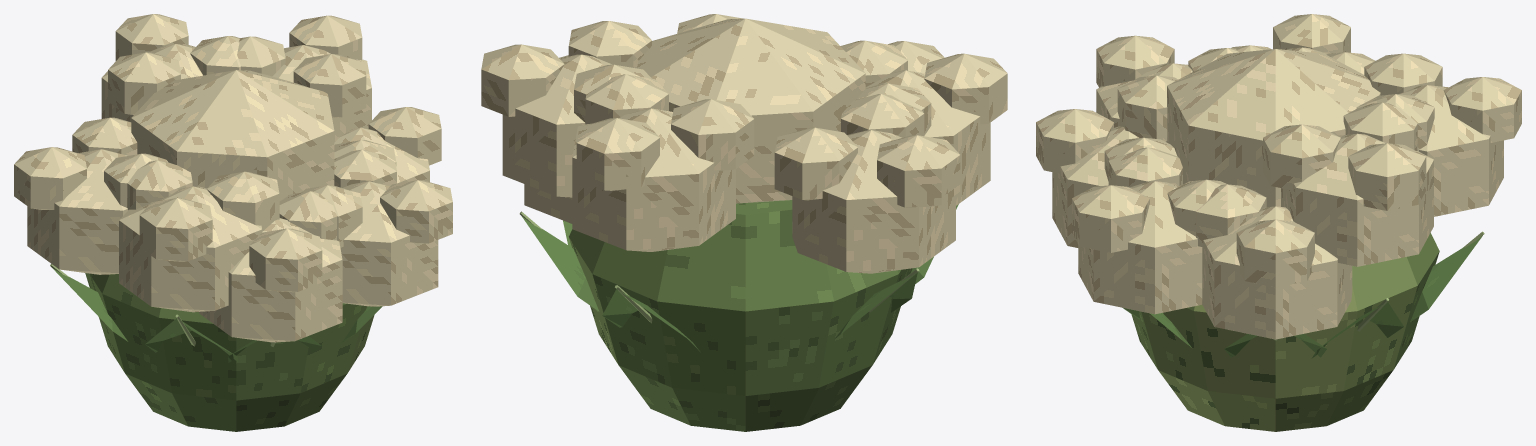
File: cauliflower_head.glb
3 views of the same model, side by side, from view 1: azimuth 30°, elevation 25°; view 2: azimuth 150°, elevation 25°; view 3: azimuth 270°, elevation 25° (orthographic). The views are drawn at different scales.
Parts seen in each view (by area): view 1: block_small crown bud (×19), block_cluster of tight buds (×7), block_cauliflower base, block_center crown, block_green outer cauliflower leaf tip (×2); view 2: block_cauliflower base, block_small crown bud (×14), block_cluster of tight buds (×5), block_center crown, block_green outer cauliflower leaf tip (×3); view 3: block_small crown bud (×18), block_cluster of tight buds (×6), block_cauliflower base, block_center crown, block_green outer cauliflower leaf tip.
Boxes of the visible parts, bbox=[...] form: block_small crown bud (×19): bbox=[14, 14, 452, 292]; block_cluster of tight buds (×7): bbox=[27, 44, 438, 342]; block_cauliflower base: bbox=[85, 273, 374, 431]; block_center crown: bbox=[131, 70, 334, 200]; block_green outer cauliflower leaf tip (×2): bbox=[52, 268, 191, 344]; block_cauliflower base: bbox=[569, 200, 912, 431]; block_small crown bud (×14): bbox=[481, 14, 1007, 207]; block_cluster of tight buds (×5): bbox=[502, 54, 990, 273]; block_center crown: bbox=[637, 18, 865, 203]; block_green outer cauliflower leaf tip (×3): bbox=[522, 216, 916, 333]; block_small crown bud (×18): bbox=[1036, 14, 1521, 287]; block_cluster of tight buds (×6): bbox=[1052, 63, 1503, 339]; block_cauliflower base: bbox=[1131, 233, 1439, 431]; block_center crown: bbox=[1167, 49, 1380, 207]; block_green outer cauliflower leaf tip: bbox=[1422, 235, 1482, 309].
Bounding box in the file's own units: 0.138 × 0.106 × 0.1372.
2 materials, 2 textured.
